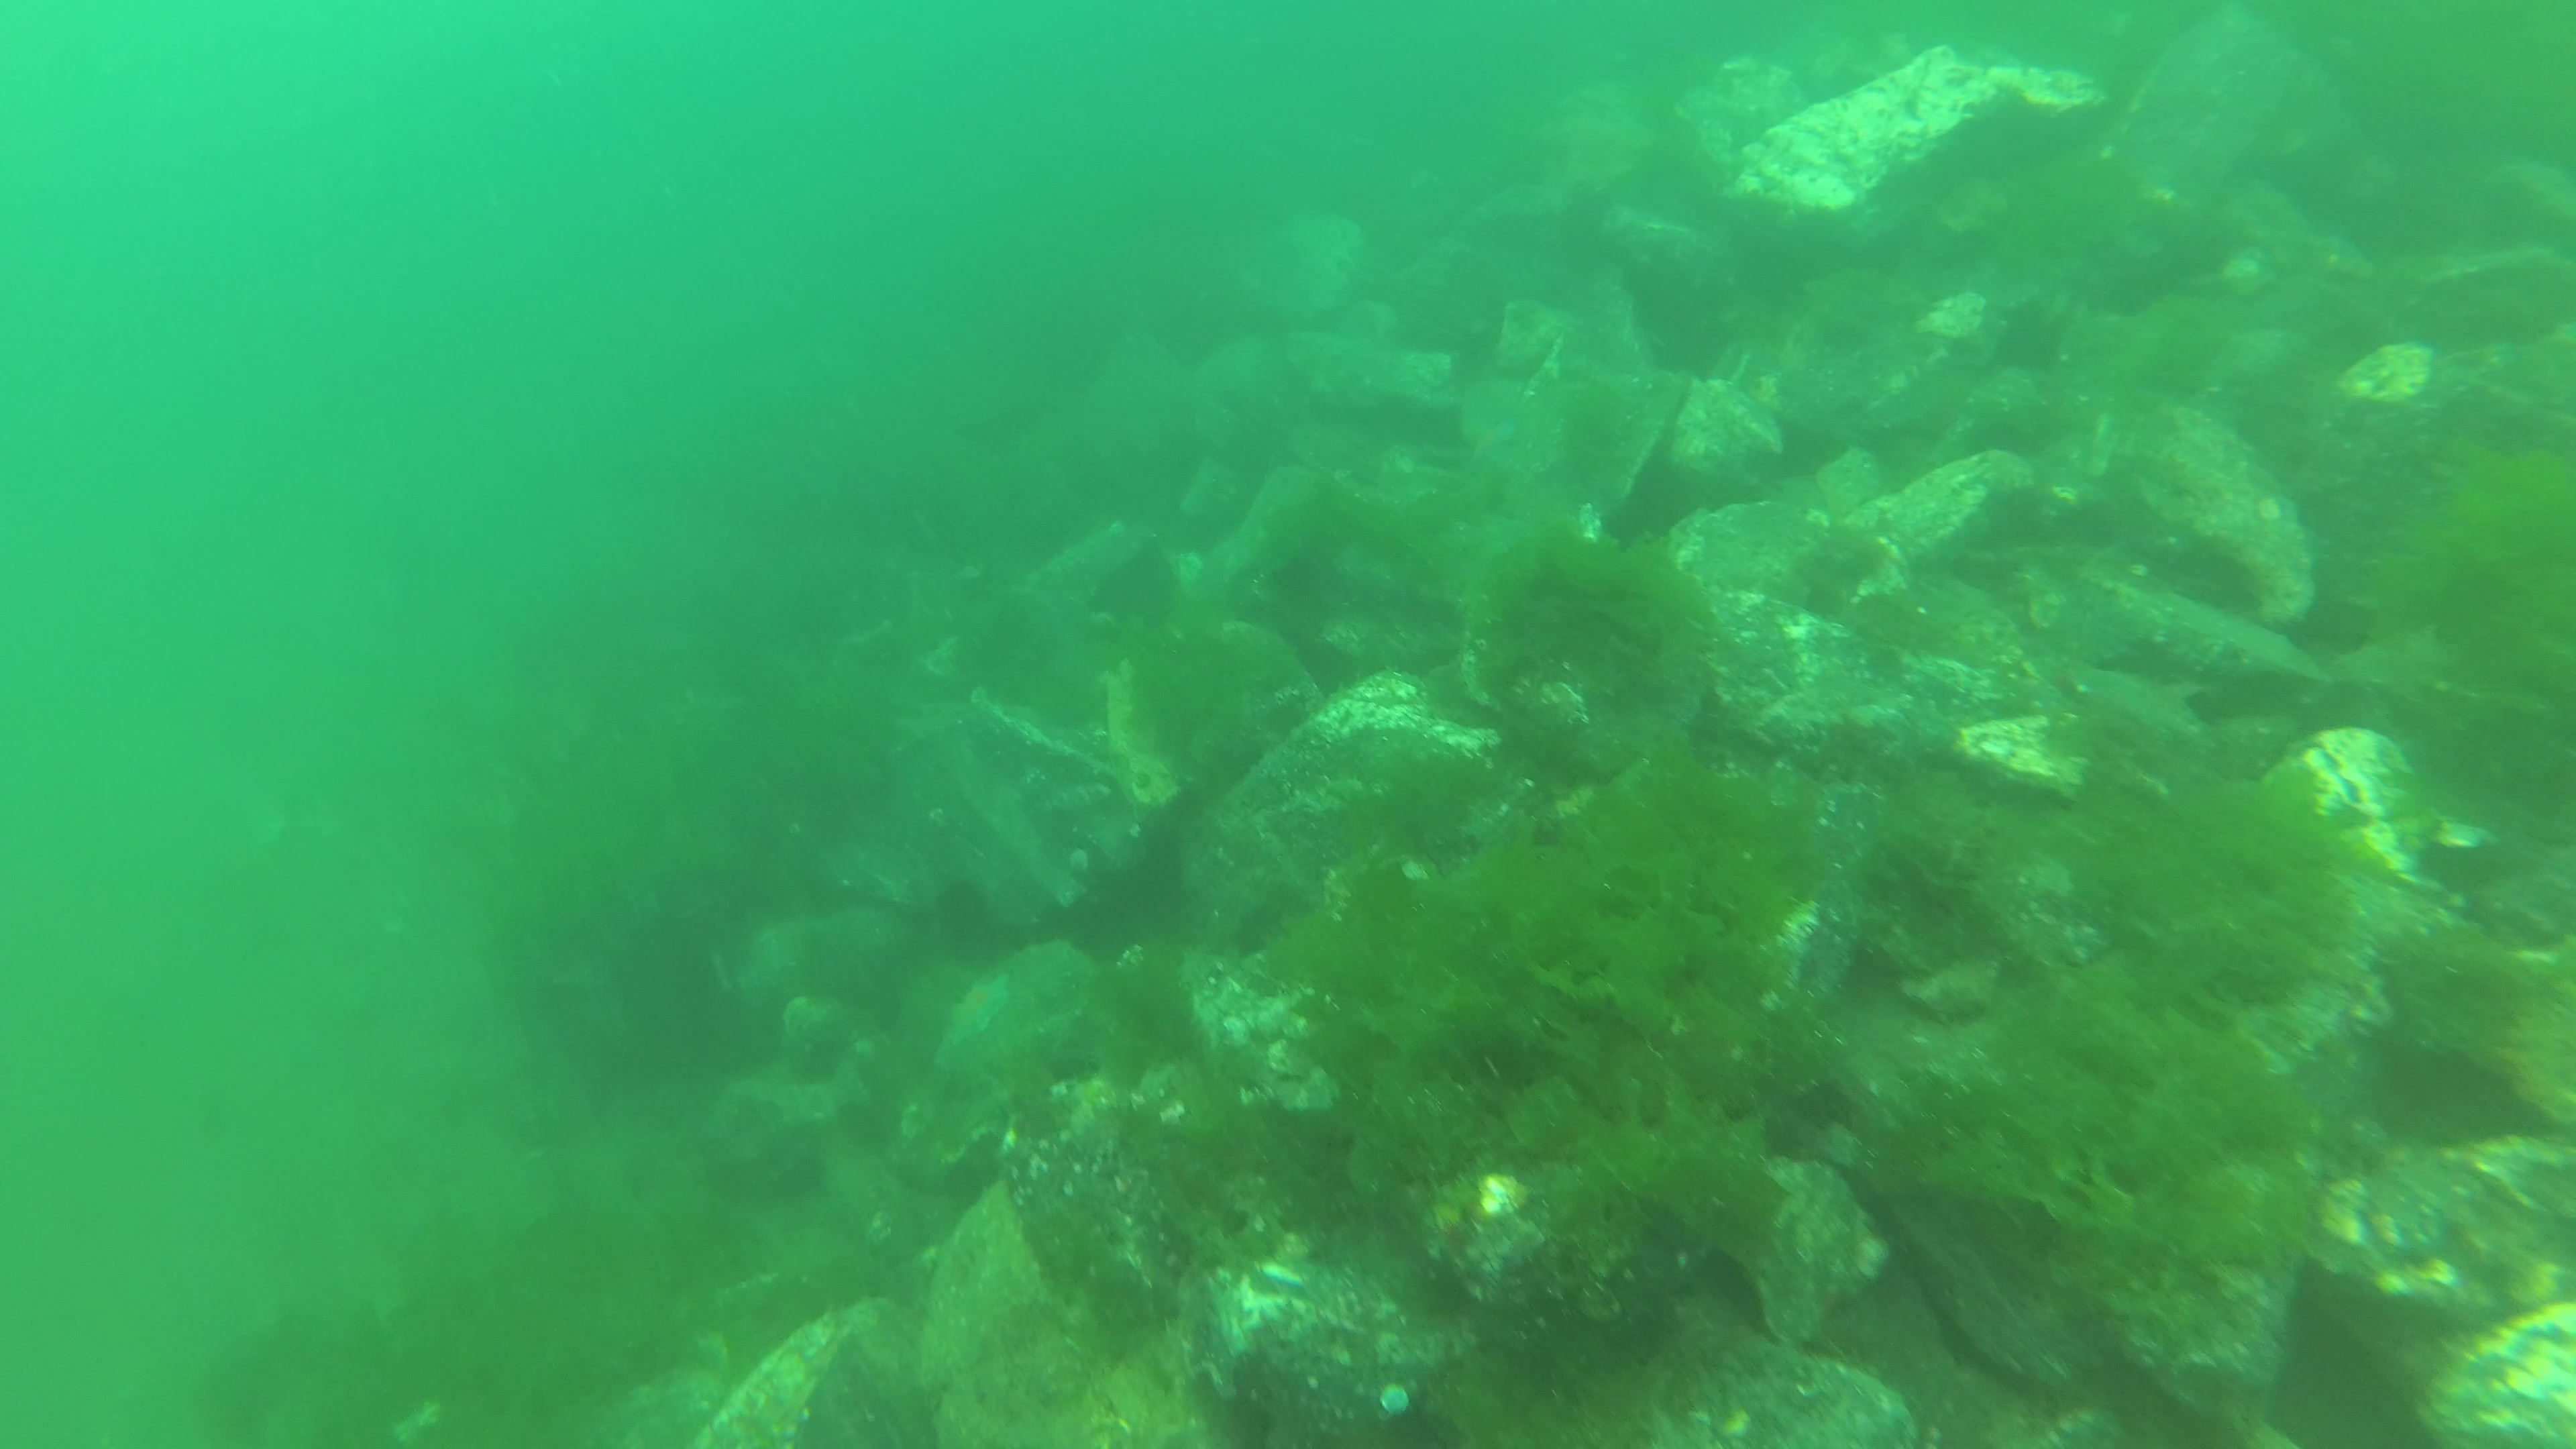echinus: (924, 883, 1001, 971)
